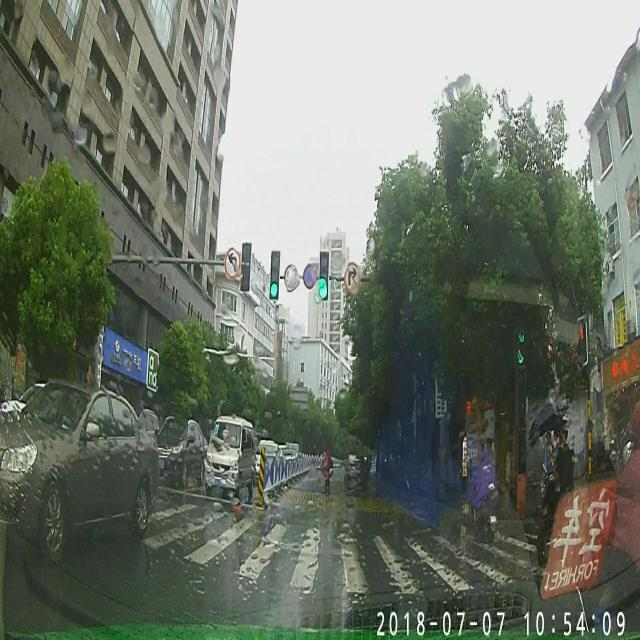car: (0, 382, 160, 552), (150, 412, 212, 492), (201, 417, 256, 502)
